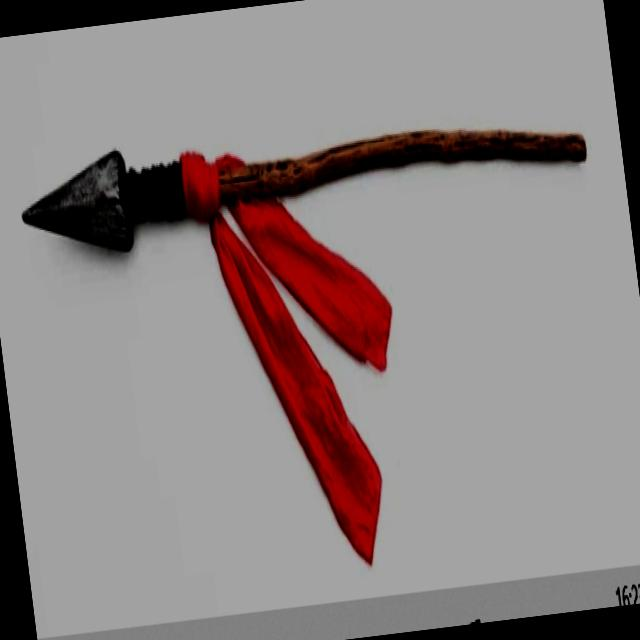spear: (0, 53, 640, 604)
